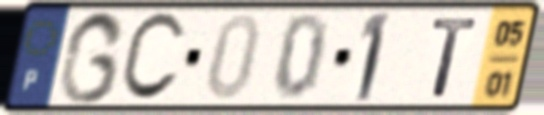0: (202, 12, 267, 103), (272, 11, 332, 103)
1: (358, 10, 394, 105)
C: (116, 9, 189, 105)
G: (55, 8, 129, 107)
T: (429, 15, 483, 100)
